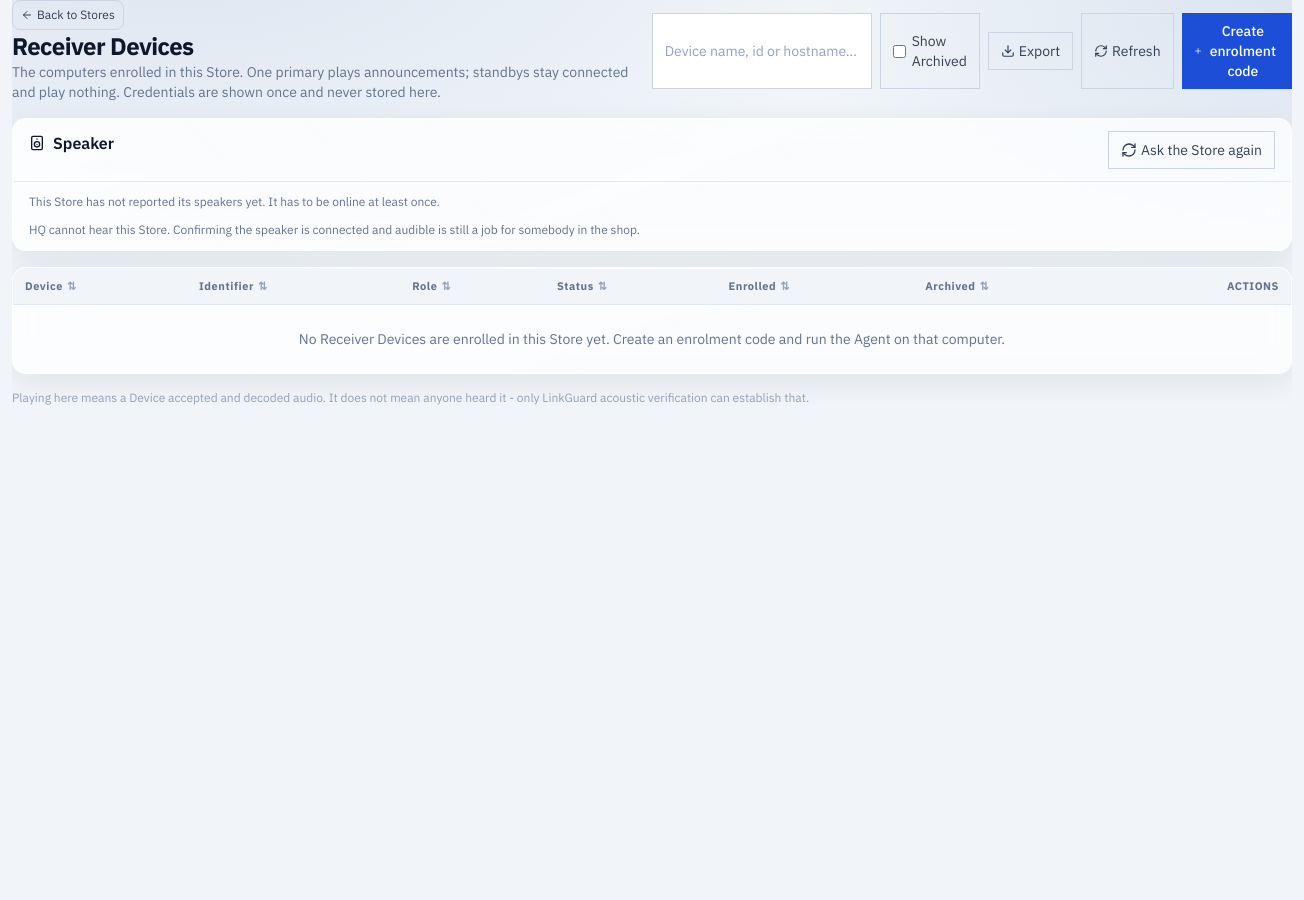
it: Copy puts the exact code on the clipboard
Click the button with test id "create-enrolment-code-btn": (1237, 51) x1=1182 y1=13 x2=1292 y2=89
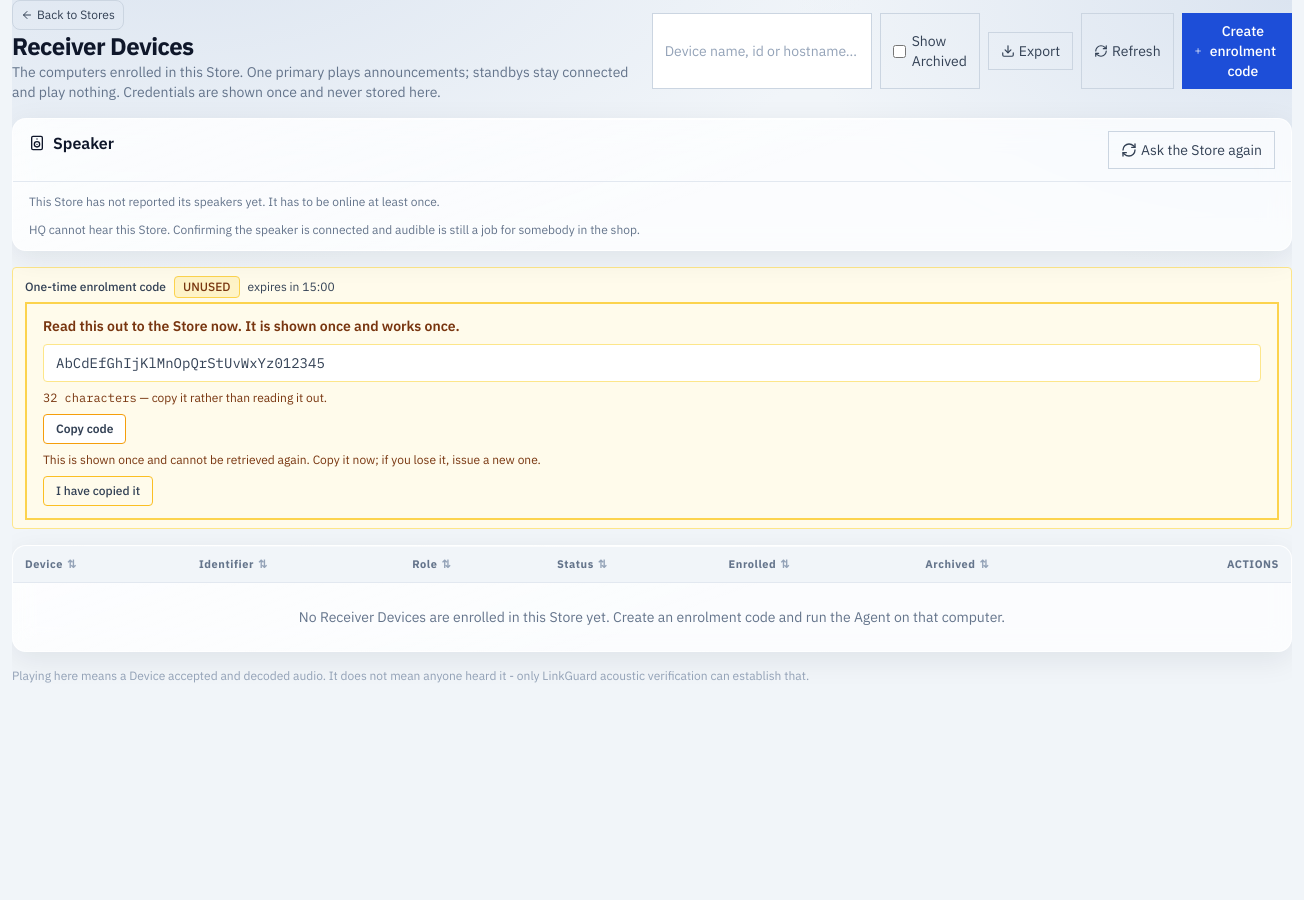
Click the button with test id "issued-enrolment-code-copy": (85, 429) x1=43 y1=414 x2=126 y2=444
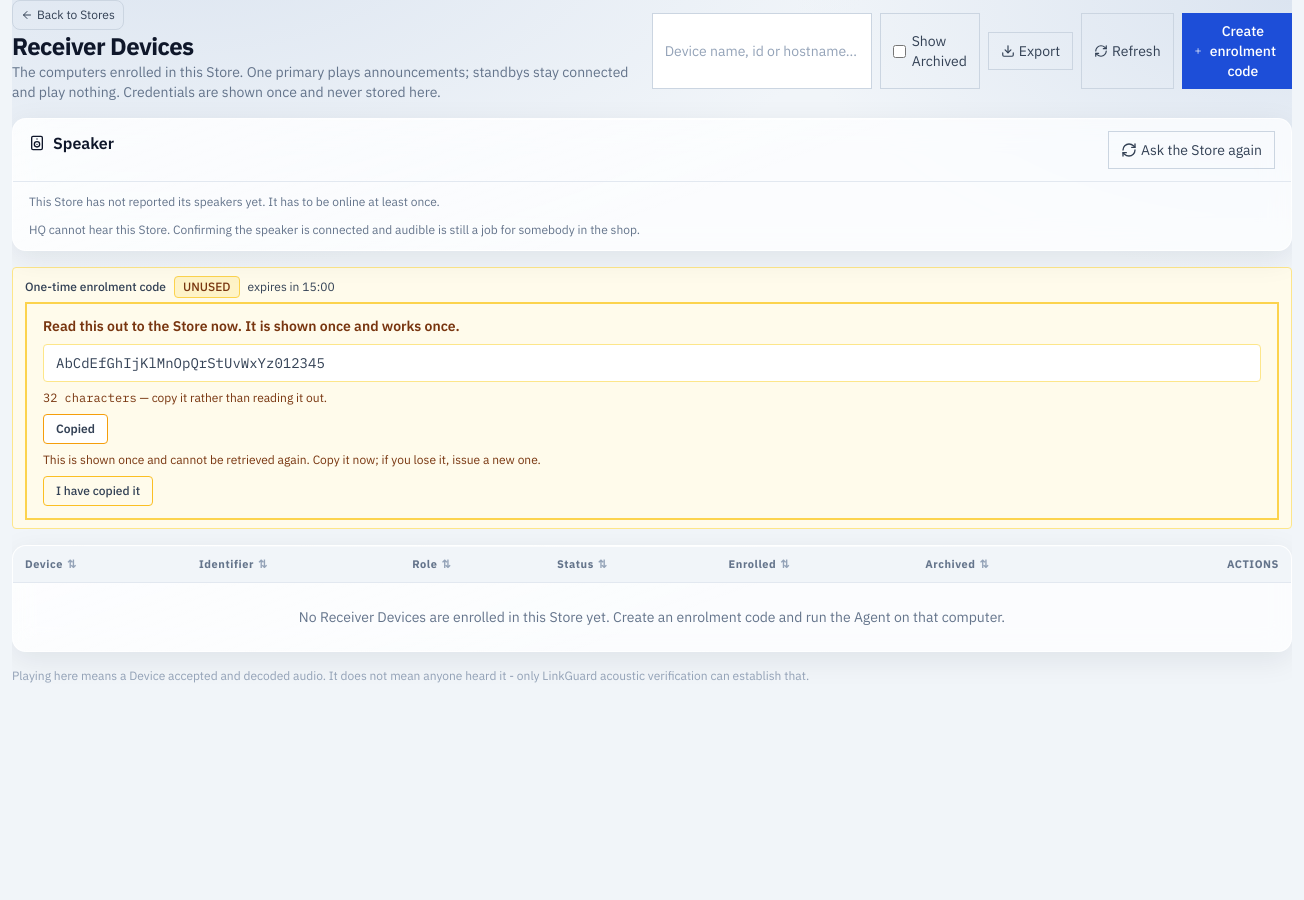
Expected: the button with test id "issued-enrolment-code-copy" reads "Copied", x1=43 y1=414 x2=108 y2=444
